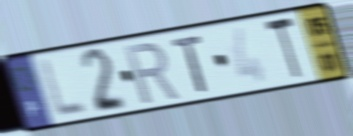2: (79, 46, 130, 118)
4: (233, 24, 268, 88)
L: (38, 55, 91, 121)
R: (122, 40, 183, 107)
T: (262, 13, 304, 84), (170, 33, 211, 95)
